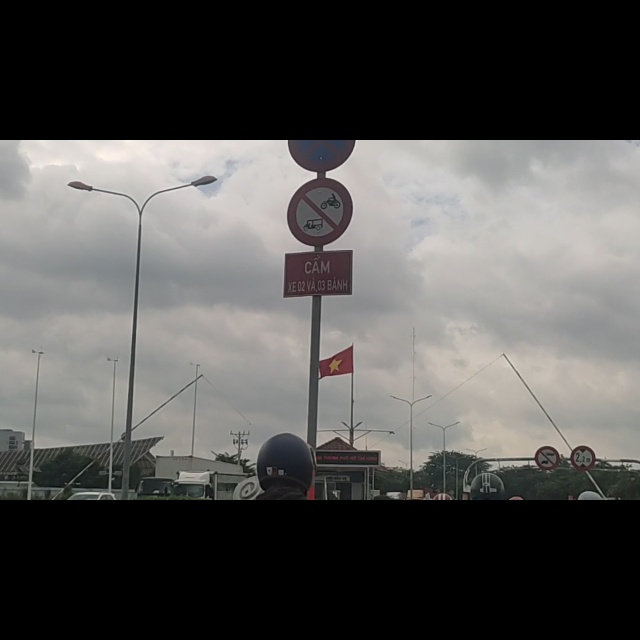bien_cam: (287, 69, 355, 190), (285, 2, 357, 56), (570, 543, 596, 588), (535, 542, 561, 585)
